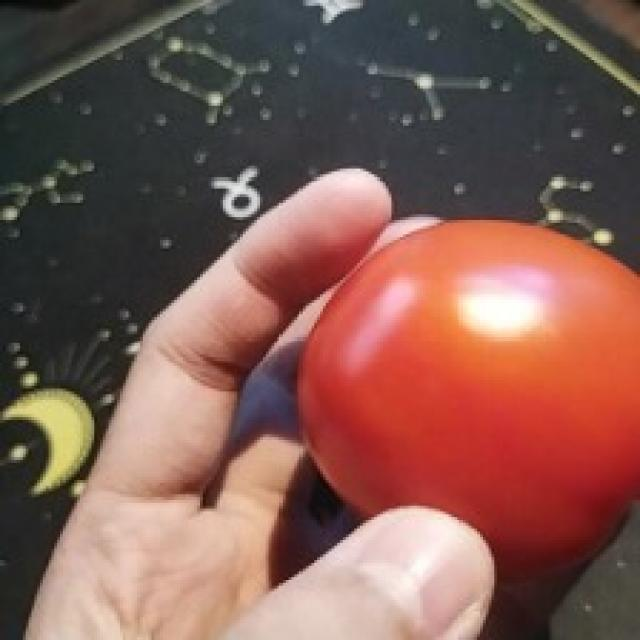Fresh Tomato: (280, 201, 640, 603)
